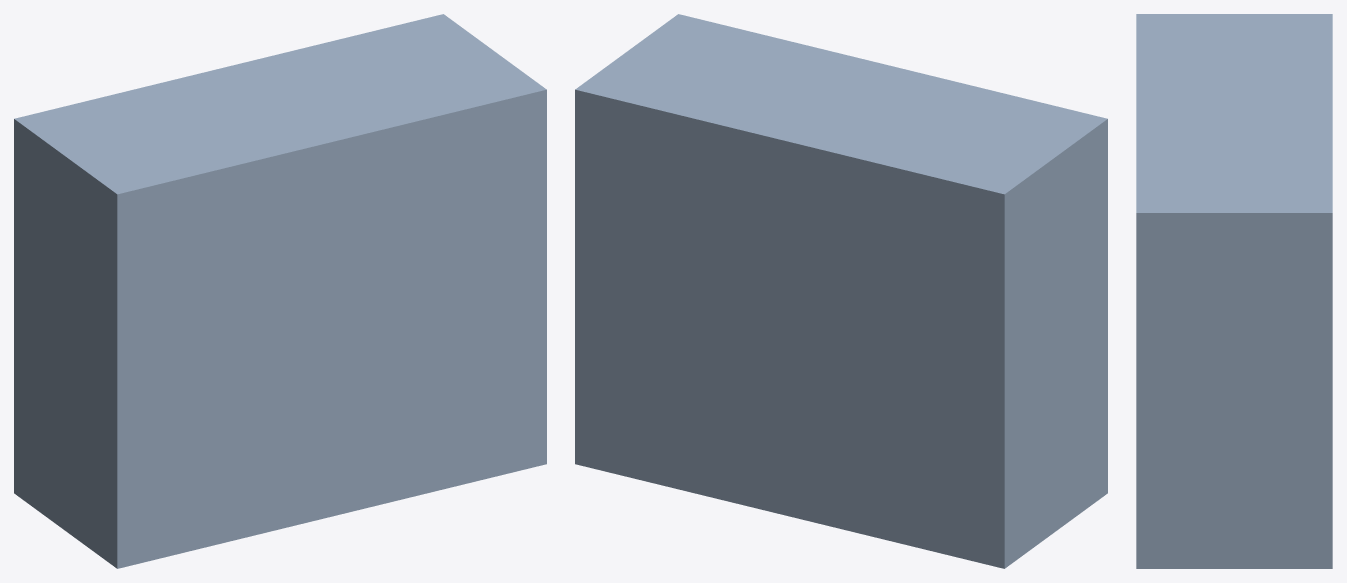
File: complete-editor-community.glb
3 views of the same model, side by side, from view 1: azimuth 30°, elevation 25°; view 2: azimuth 150°, elevation 25°; view 3: azimuth 270°, elevation 25° (orthographic). The views are drawn at different scales.
Visible parts, largest first — view 1: CAD model; view 2: CAD model; view 3: CAD model.
Part boxes in pixels (<box>): CAD model: <box>14,14,546,568</box>; CAD model: <box>575,14,1107,568</box>; CAD model: <box>1136,14,1332,568</box>.
Bounding box in the file's own units: 12 × 10 × 5.
